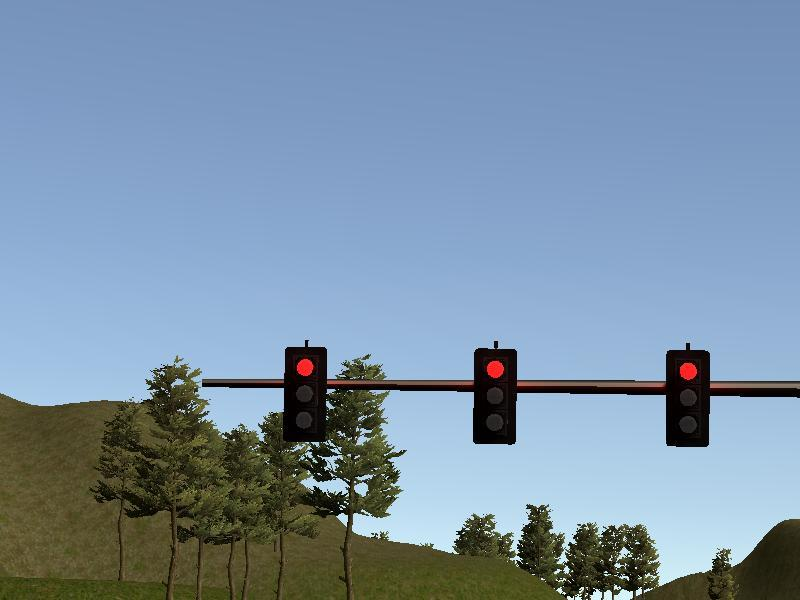Red: (667, 349, 710, 446), (475, 348, 517, 443), (285, 347, 325, 440)
